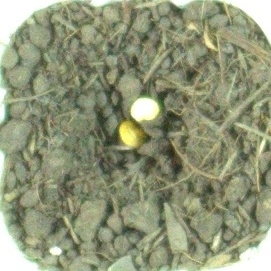pepper seed: (40, 44, 193, 194), (47, 35, 209, 159)
